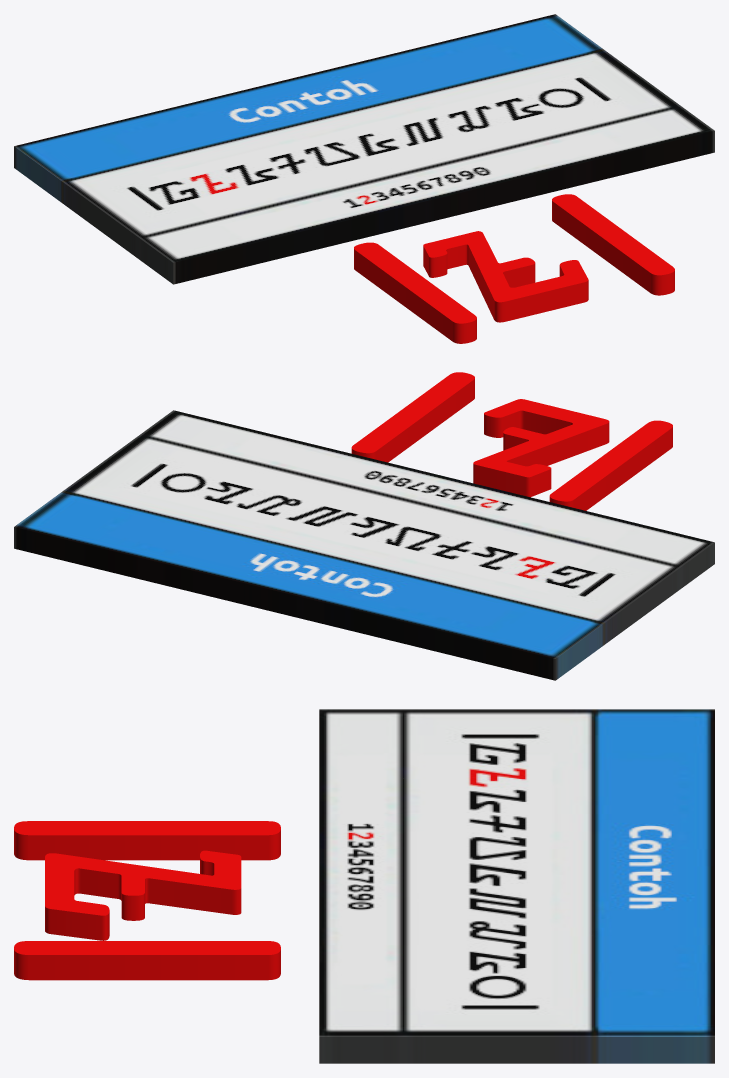
3 renders of one model, top to bottom at view 1: azimuth 30°, elevation 25°; view 2: azimuth 150°, elevation 25°; view 3: azimuth 270°, elevation 25°, orthographic. The views are drawn at different scales.
Parts seen in each view (by area): view 1: contoh-2-Angka, Text; view 2: contoh-2-Angka, Text; view 3: contoh-2-Angka, Text.
Boxes of the visible parts, left/top/right/bottom form: contoh-2-Angka: left=14, top=14, right=714, bottom=284; Text: left=354, top=194, right=674, bottom=343; contoh-2-Angka: left=14, top=410, right=714, bottom=680; Text: left=351, top=372, right=672, bottom=510; contoh-2-Angka: left=319, top=709, right=714, bottom=1063; Text: left=14, top=821, right=280, bottom=980.
Size of the model in its own units: 1.96 by 0.11 by 1.77.
2 materials, 1 textured.
